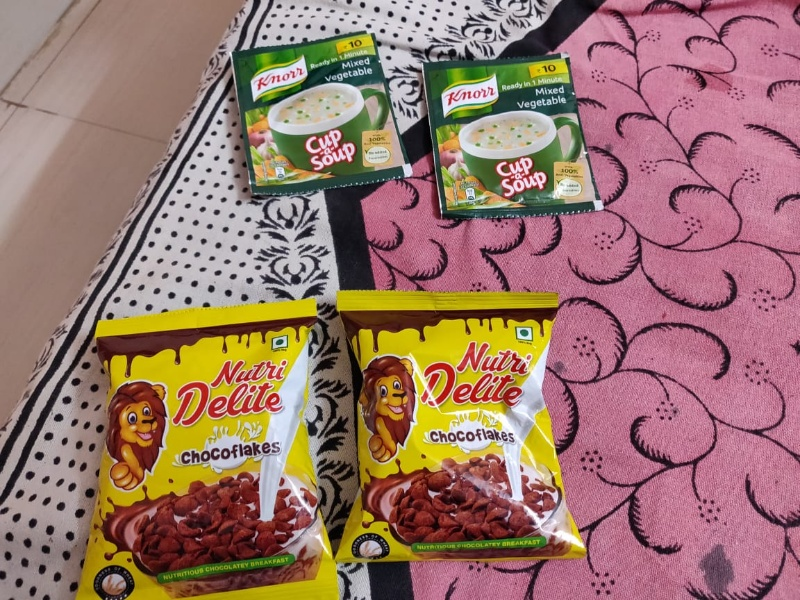Knorr_Cup_Soup: (424, 47, 604, 217), (232, 34, 408, 190)
nutriDelite: (91, 316, 342, 598), (341, 291, 582, 556)
